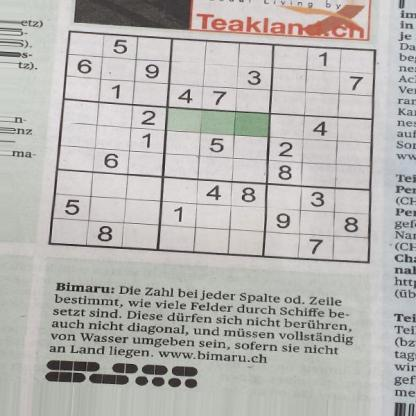sudoku: (46, 26, 380, 268)
